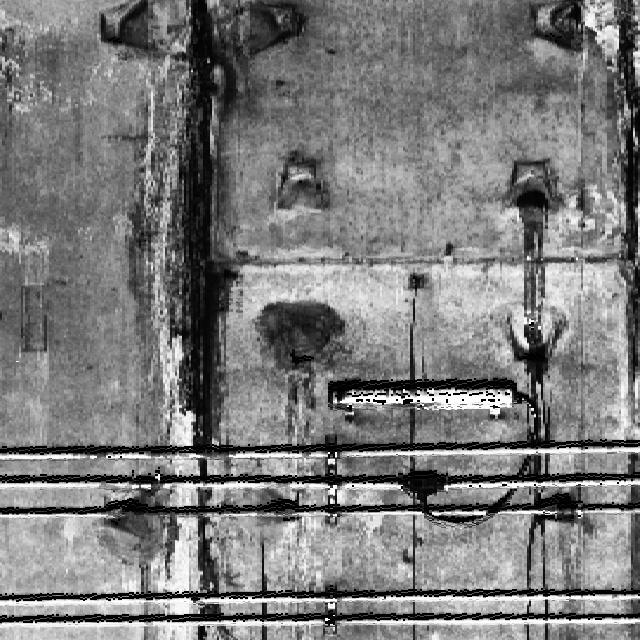leakage: (128, 0, 251, 634), (573, 0, 639, 398), (519, 350, 558, 639), (511, 197, 554, 311)
